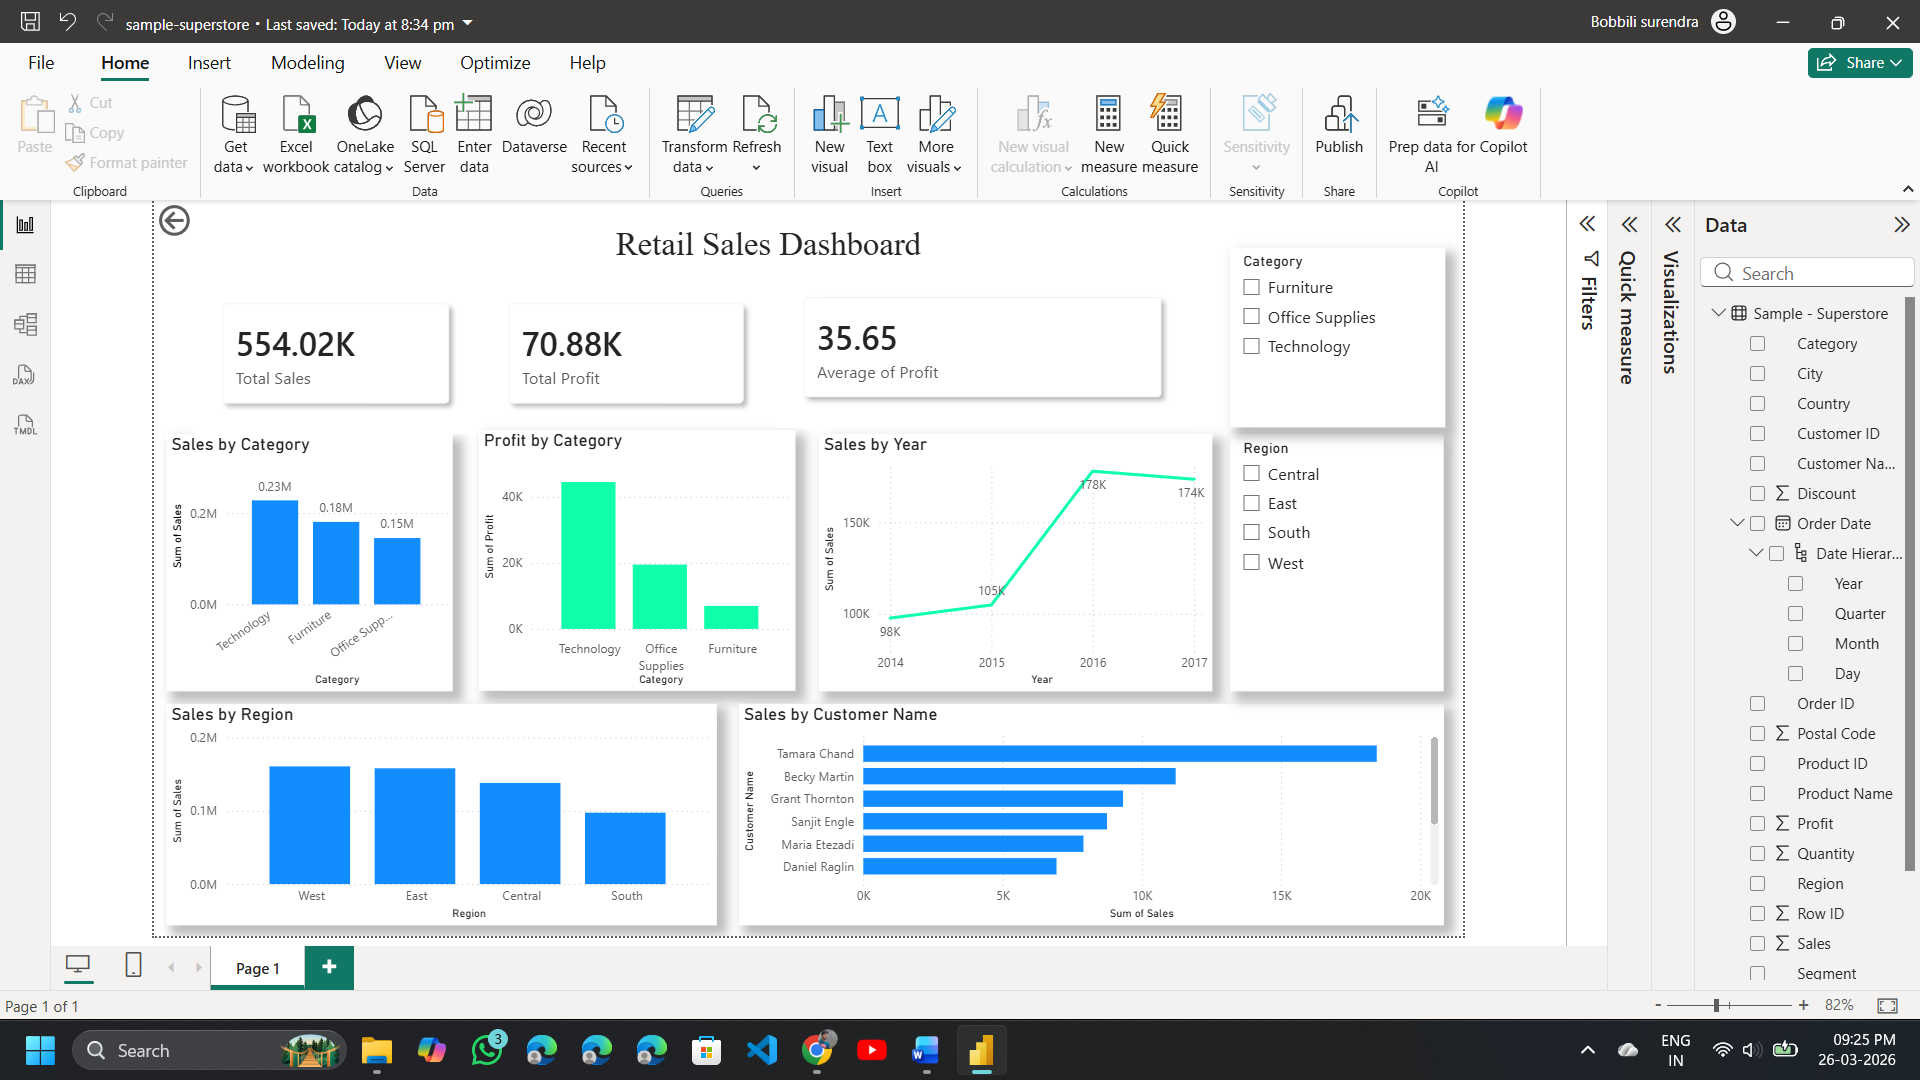

The page's visual inventory and layout, read from the dashboard file:
{"tool":"powerbi","page":{"name":"Page 1","canvas":[1280,720],"ordinal":0},"visuals":[{"type":"columnChart","title":" Sales by Category","fields":{"Category":["Sample - Superstore.Category"],"Y":["Sum(Sample - Superstore.Sales)"]},"box":[12.2,228.7,280,251.9],"z":0},{"type":"lineChart","title":" Sales by Year","fields":{"Y":["Sum(Sample - Superstore.Sales)"],"Category":["Sample - Superstore.Order Date.Variation.Date Hierarchy.Year"]},"box":[650.5,228.7,385.2,251.9],"z":1000},{"type":"cardVisual","fields":{"Data":["Sum(Sample - Superstore.Sales)"]},"box":[37.9,72.1,280,156.5],"z":2000},{"type":"cardVisual","fields":{"Data":["Sum(Sample - Superstore.Profit)"]},"box":[317.9,72.1,288.6,156.5],"z":3000},{"type":"columnChart","title":"Profit by Category","fields":{"Category":["Sample - Superstore.Category"],"Y":["Sum(Sample - Superstore.Profit)"]},"box":[317.9,225,309.4,255.6],"z":4000},{"type":"clusteredBarChart","title":" Sales by Customer Name","fields":{"Category":["Sample - Superstore.Customer Name"],"Y":["Sum(Sample - Superstore.Sales)"]},"box":[572.3,492.8,689.7,216.4],"z":5000},{"type":"slicer","fields":{"Values":["Sample - Superstore.Region"]},"box":[1052.9,228.7,209.1,251.9],"z":6000},{"type":"actionButton","box":[0,0,100,40],"z":7000},{"type":"slicer","fields":{"Values":["Sample - Superstore.Category"]},"box":[1052.9,46.5,210.3,176.1],"z":8000},{"type":"textbox","box":[317.9,19.6,566.2,52.6],"z":9000},{"type":"columnChart","title":" Sales by Region","fields":{"Category":["Sample - Superstore.Region"],"Y":["Sum(Sample - Superstore.Sales)"]},"box":[12.2,492.8,538,216.4],"z":10000},{"type":"cardVisual","fields":{"Data":["Avg(Sample - Superstore.Profit)"]},"box":[606.5,66,408.4,156.5],"z":11000}]}

Visuals, with their boxes on the page's 1280x720 design canvas (x1, y1, x2, y2). These are canvas units, not pixel positions in the 1920x1080 screenshot, which may show the page scaled, cropped or inside an application window:
" Sales by Category" columnChart: region(12, 229, 292, 481)
" Sales by Year" lineChart: region(650, 229, 1036, 481)
cardVisual - Sum(Sample - Superstore.Sales): region(38, 72, 318, 229)
cardVisual - Sum(Sample - Superstore.Profit): region(318, 72, 606, 229)
"Profit by Category" columnChart: region(318, 225, 627, 481)
" Sales by Customer Name" clusteredBarChart: region(572, 493, 1262, 709)
slicer - Sample - Superstore.Region: region(1053, 229, 1262, 481)
actionButton: region(0, 0, 100, 40)
slicer - Sample - Superstore.Category: region(1053, 46, 1263, 223)
textbox: region(318, 20, 884, 72)
" Sales by Region" columnChart: region(12, 493, 550, 709)
cardVisual - Avg(Sample - Superstore.Profit): region(606, 66, 1015, 222)
